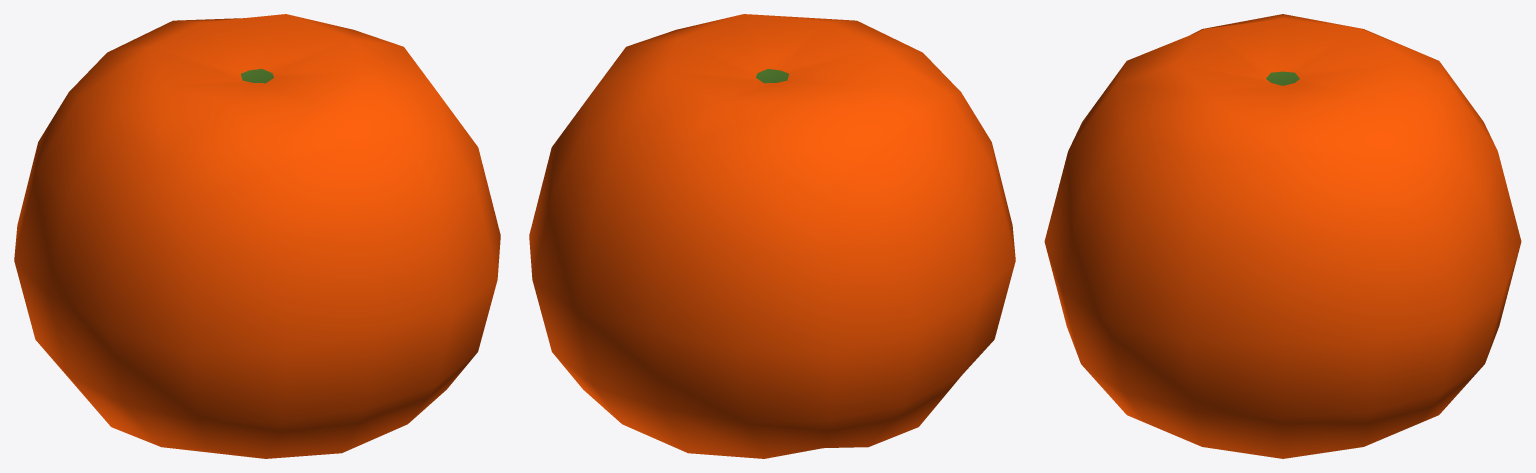
File: Grapefruit.glb
The picture shows the model from 3 angles, left to right: view 1: azimuth 30°, elevation 25°; view 2: azimuth 150°, elevation 25°; view 3: azimuth 270°, elevation 25°; orthographic projection.
Visible parts, largest first — view 1: Grapefruit; view 2: Grapefruit; view 3: Grapefruit.
Part boxes in pixels (<box>): Grapefruit: <box>14,14,500,458</box>; Grapefruit: <box>529,14,1015,458</box>; Grapefruit: <box>1044,14,1521,458</box>.
Bounding box in the file's own units: 0.1139 × 0.0942 × 0.1139.
Materials: 1 (1 with a texture image).
